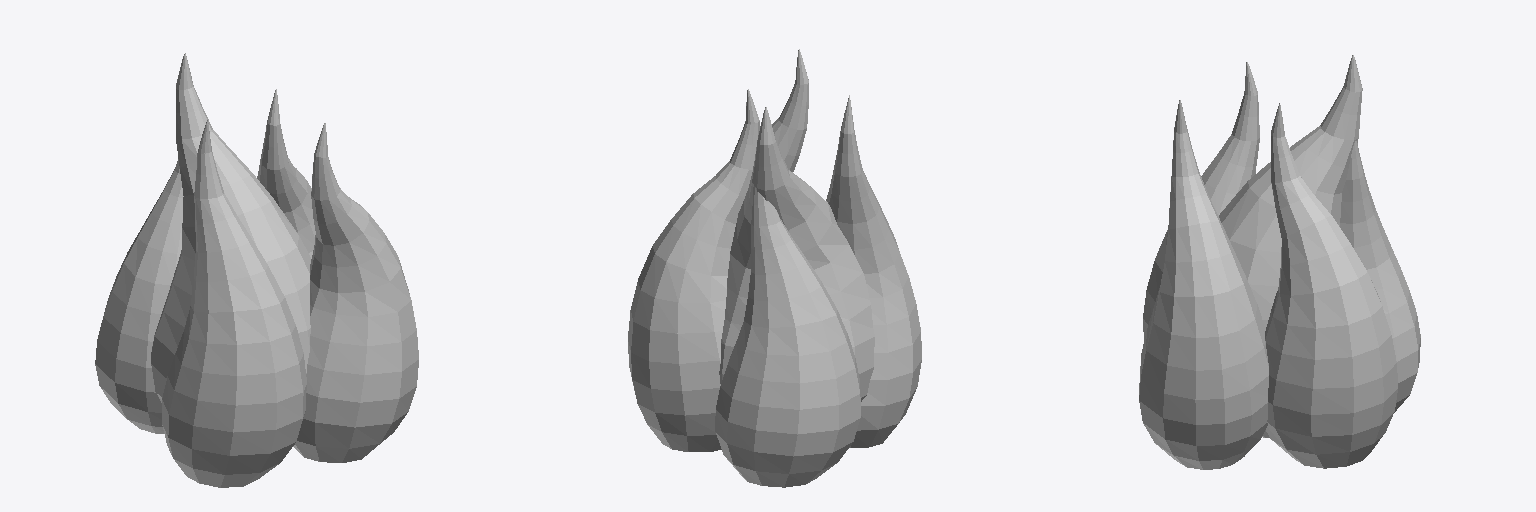
File: fire_000062.obj
The picture shows the model from 3 angles: view 1: azimuth 30°, elevation 25°; view 2: azimuth 150°, elevation 25°; view 3: azimuth 270°, elevation 25°; orthographic projection.
Visible parts, largest first — view 1: flame_NurbsPath.015; view 2: flame_NurbsPath.015; view 3: flame_NurbsPath.015.
Boxes of the visible parts, x1=… form: flame_NurbsPath.015: x1=95, y1=53, x2=418, y2=487; flame_NurbsPath.015: x1=628, y1=49, x2=921, y2=487; flame_NurbsPath.015: x1=1139, y1=55, x2=1420, y2=469.
Bounding box in the file's own units: 0.7646 × 1.16 × 0.7987.